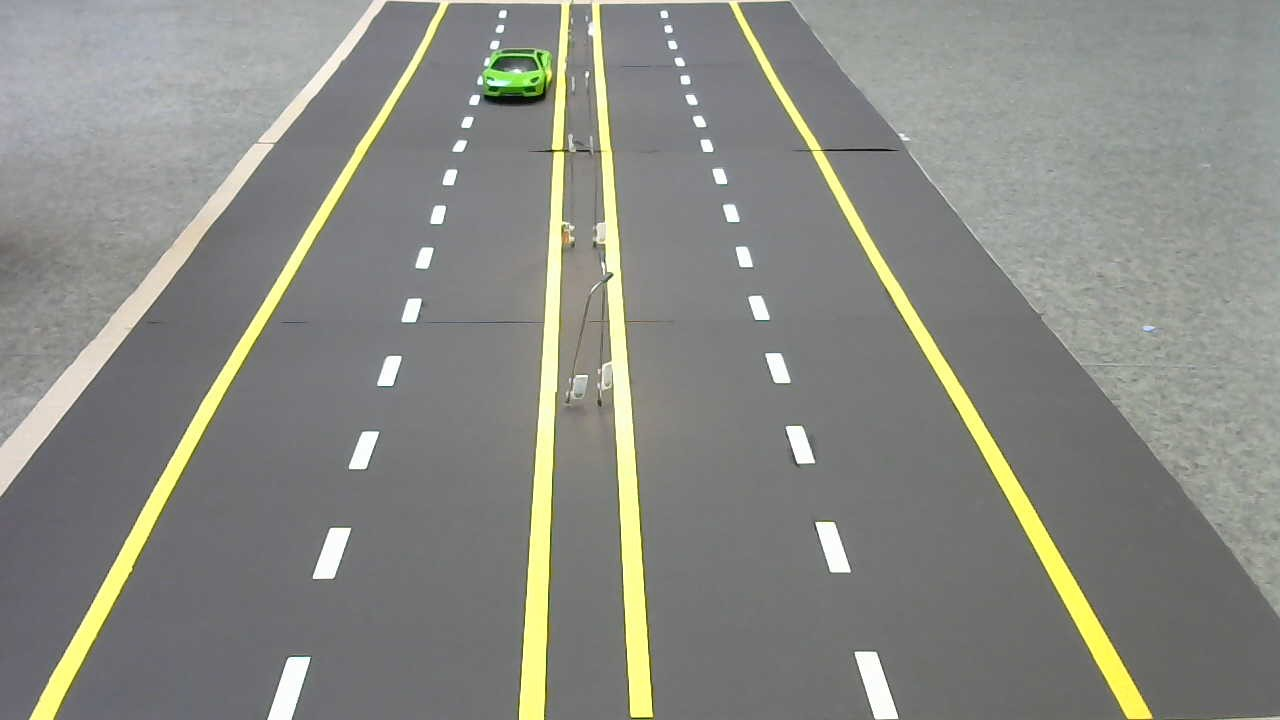front_car: (479, 45, 554, 102)
